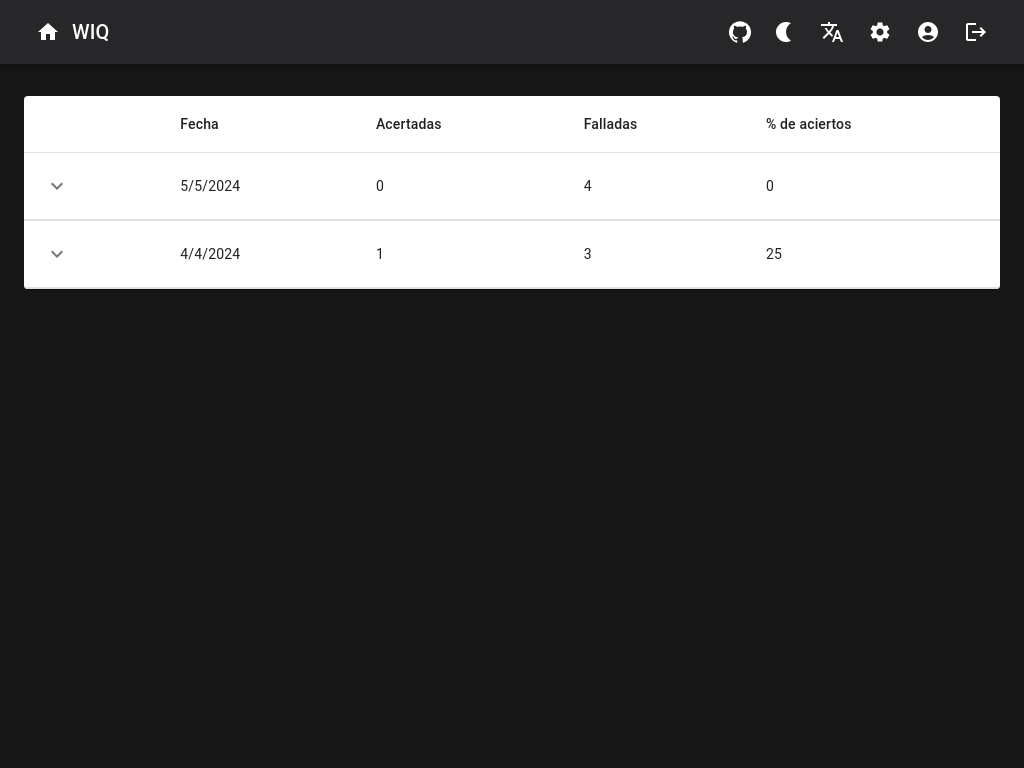
Scenario: Game Component › when you click a game, it shows its questions
Click the button named "expand row" next to "4/4/2024" at (57,254), box [40,237,74,271]
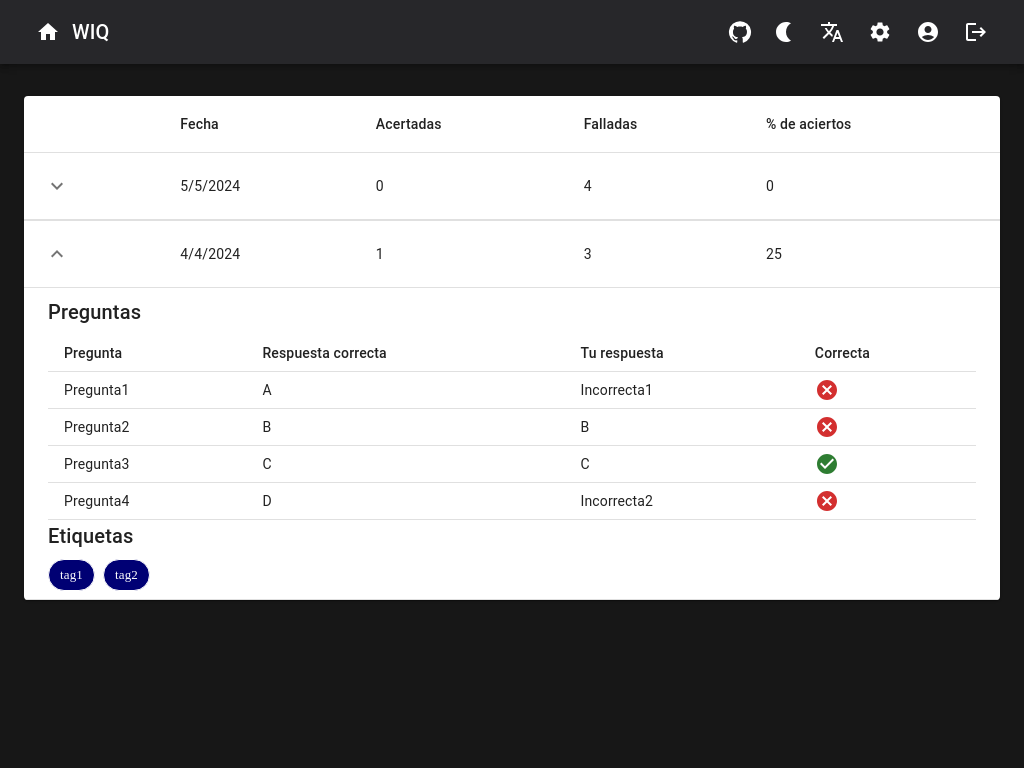
Result: the column heading "Pregunta" is shown at [48,335,246,372]
Result: the column heading "Respuesta correcta" is shown at [246,335,564,372]
Result: the column heading "Tu respuesta" is shown at [564,335,799,372]
